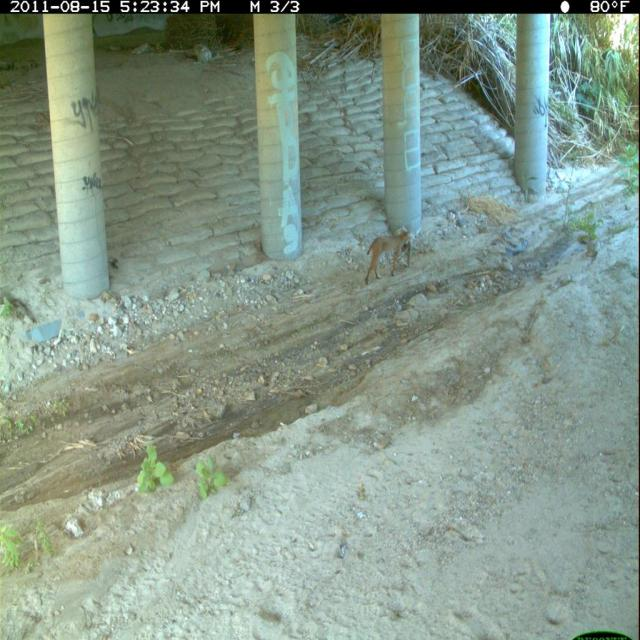bobcat: (361, 223, 414, 291)
rabbit: (403, 237, 417, 273)
